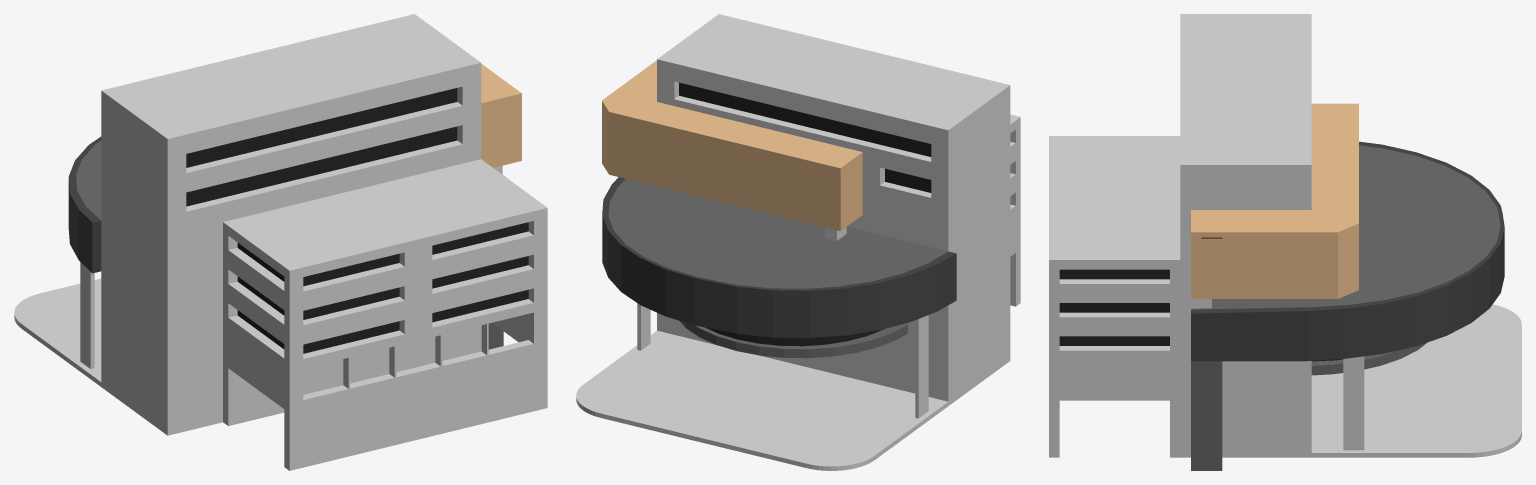
The model's file is building10.glb.
3 renders of one model, left to right at view 1: azimuth 30°, elevation 25°; view 2: azimuth 150°, elevation 25°; view 3: azimuth 270°, elevation 25°, orthographic. The views are drawn at different scales.
Visible parts, largest first — view 1: Cube.002, Cube.003, Cube.001, Stair.002, Cube.005, Cube.008, pill, Cube.006; view 2: Cube.003, Cube.005, Cube.001, Cube.006, Cube.008, Stair.002, Stair, Cube.007, pill, Cube.002; view 3: Cube.002, Cube.003, Cube.005, Cube.006, Cube.008, Stair, Cube.001, Stair.002, Cube.004, pill, Cube.007.
Part boxes in pixels (<box>): Cube.002: <box>223,159,547,470</box>; Cube.003: <box>101,14,481,235</box>; Cube.001: <box>101,187,222,435</box>; Stair.002: <box>14,278,101,386</box>; Cube.005: <box>481,64,521,167</box>; Cube.008: <box>68,136,101,273</box>; pill: <box>80,165,502,368</box>; Cube.006: <box>76,141,101,220</box>; Cube.003: <box>657,14,1010,219</box>; Cube.005: <box>602,60,862,230</box>; Cube.001: <box>657,175,1010,405</box>; Cube.006: <box>608,179,947,288</box>; Cube.008: <box>602,177,956,337</box>; Stair.002: <box>697,364,948,470</box>; Stair: <box>576,330,795,441</box>; Cube.007: <box>679,320,907,358</box>; pill: <box>637,227,928,418</box>; Cube.002: <box>1010,114,1020,306</box>; Cube.002: <box>1049,136,1180,457</box>; Cube.003: <box>1180,14,1311,259</box>; Cube.005: <box>1191,103,1358,298</box>; Cube.006: <box>1191,145,1500,309</box>; Cube.008: <box>1191,141,1504,361</box>; Stair: <box>1311,380,1521,457</box>; Cube.001: <box>1180,260,1311,457</box>; Stair.002: <box>1311,304,1521,380</box>; Cube.004: <box>1191,361,1222,470</box>; pill: <box>1191,299,1364,450</box>; Cube.007: <box>1311,343,1426,375</box>.
Bounding box in the file's own units: 4.01 × 3.08 × 4.5.
